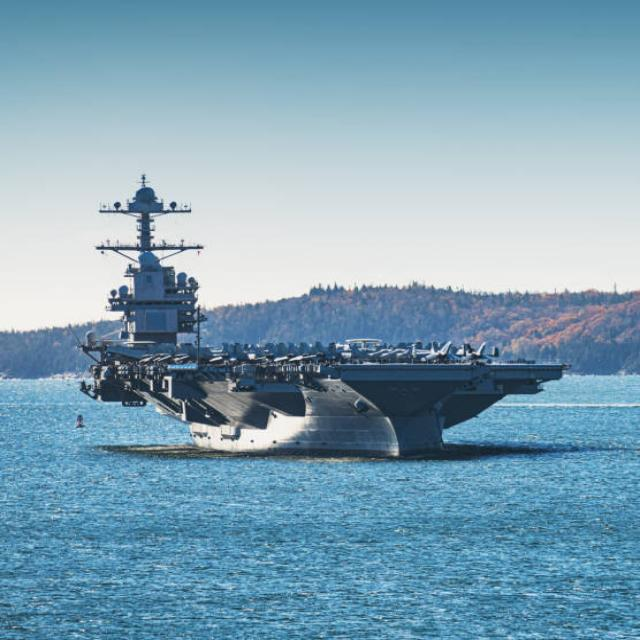Military: (79, 174, 567, 460)
